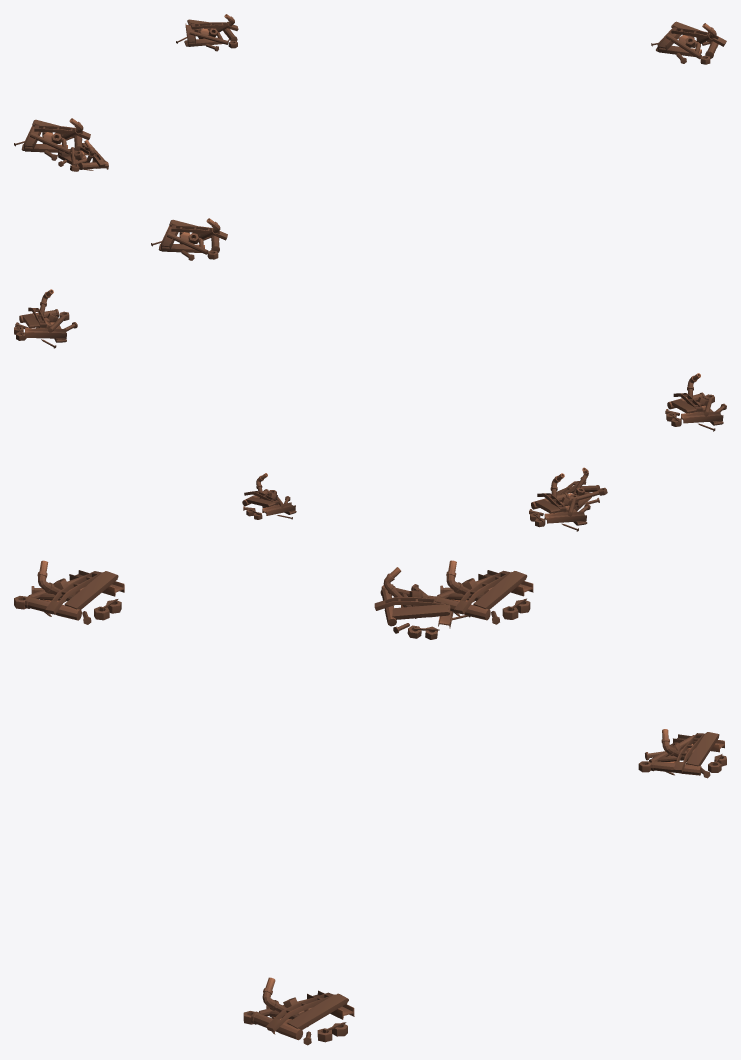
Rendered from Scraps.fbx.
3 renders of one model, top to bottom at view 1: azimuth 30°, elevation 25°; view 2: azimuth 150°, elevation 25°; view 3: azimuth 270°, elevation 25°, orthographic. The views are drawn at different scales.
Parts seen in each view (by area): view 1: Scrap4, Scrap1, Scrap2, Scrap5, Scrap3; view 2: Scrap1, Scrap4, Scrap2, Scrap5, Scrap3; view 3: Scrap4, Scrap1, Scrap2, Scrap5, Scrap3.
Part boxes in pixels (x1,y1,x2,y2): Scrap4: (151,218,227,260); Scrap1: (651,21,726,64); Scrap2: (14,118,90,160); Scrap5: (176,14,238,51); Scrap3: (57,139,108,171); Scrap1: (14,289,77,348); Scrap4: (665,373,726,431); Scrap2: (529,473,590,531); Scrap5: (242,473,296,519); Scrap3: (556,467,607,510); Scrap4: (14,560,124,624); Scrap1: (243,977,354,1045); Scrap2: (423,560,533,624); Scrap5: (638,729,726,778); Scrap3: (374,567,470,639).
Size of the model in its own units: 0.5926 by 0.0387 by 0.3864.
1 material, 1 textured.
